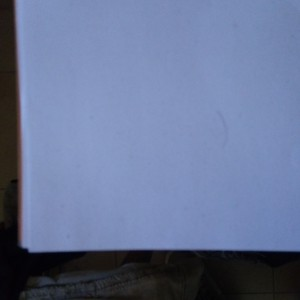base: (21, 1, 299, 249)
